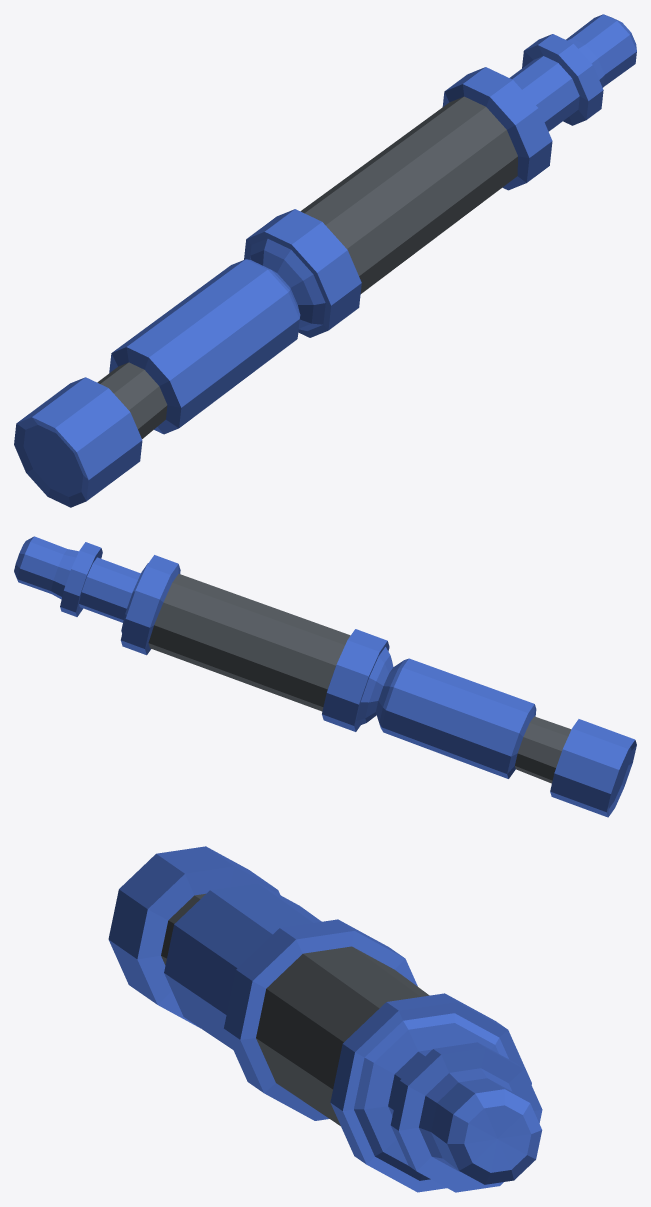
The model's file is Fighter_03_Pipes_01_Blue.fbx.
3 views of the same model, one above another, from view 1: azimuth 30°, elevation 25°; view 2: azimuth 150°, elevation 25°; view 3: azimuth 270°, elevation 25° (orthographic). The views are drawn at different scales.
Visible parts, largest first — view 1: Fighter_03_Pipes_01_Blue; view 2: Fighter_03_Pipes_01_Blue; view 3: Fighter_03_Pipes_01_Blue.
Boxes of the visible parts, x1=… form: Fighter_03_Pipes_01_Blue: x1=14, y1=14, x2=636, y2=507; Fighter_03_Pipes_01_Blue: x1=14, y1=536, x2=636, y2=817; Fighter_03_Pipes_01_Blue: x1=108, y1=846, x2=542, y2=1192.
Bounding box in the file's own units: 244 × 88.09 × 84.72.
1 material, 1 textured.
